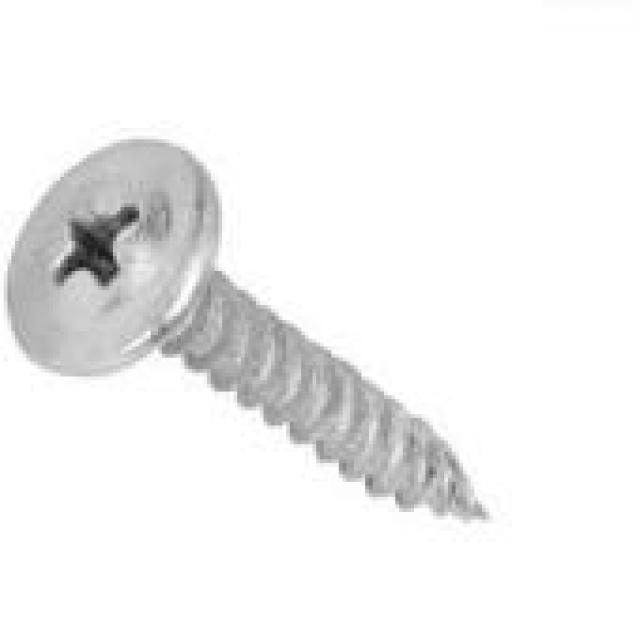Screw: (4, 139, 489, 520)
